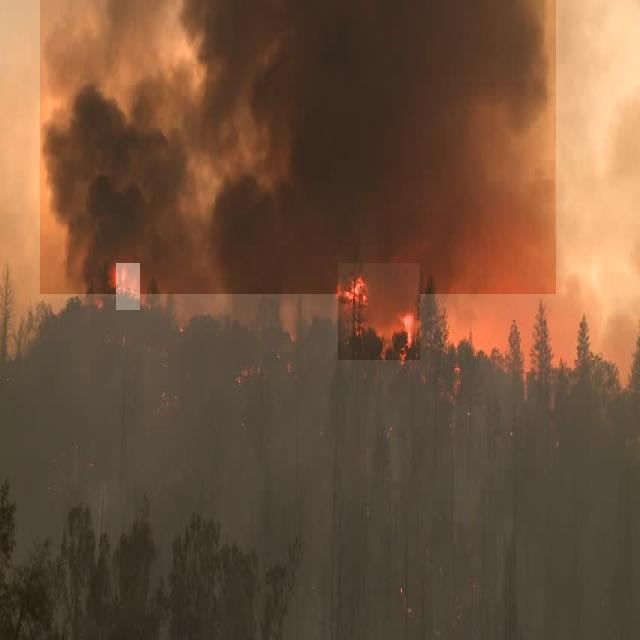Fire: (338, 263, 420, 360), (116, 263, 140, 310)
Smoke: (40, 0, 556, 294)
